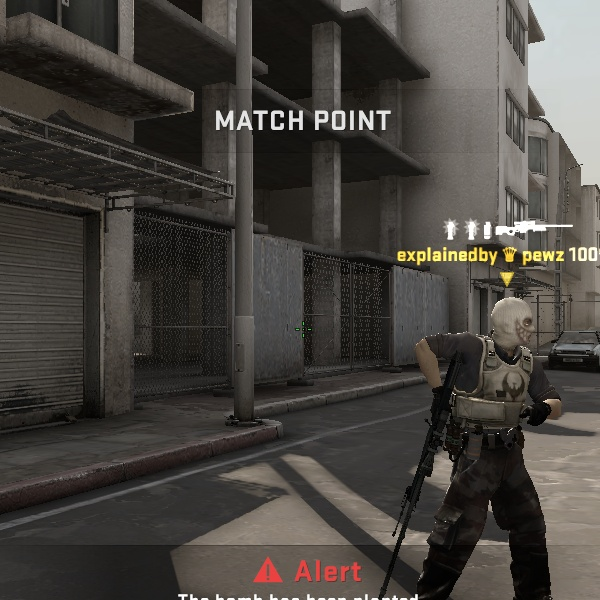t_body: (384, 286, 582, 593)
t_head: (480, 289, 552, 363)
